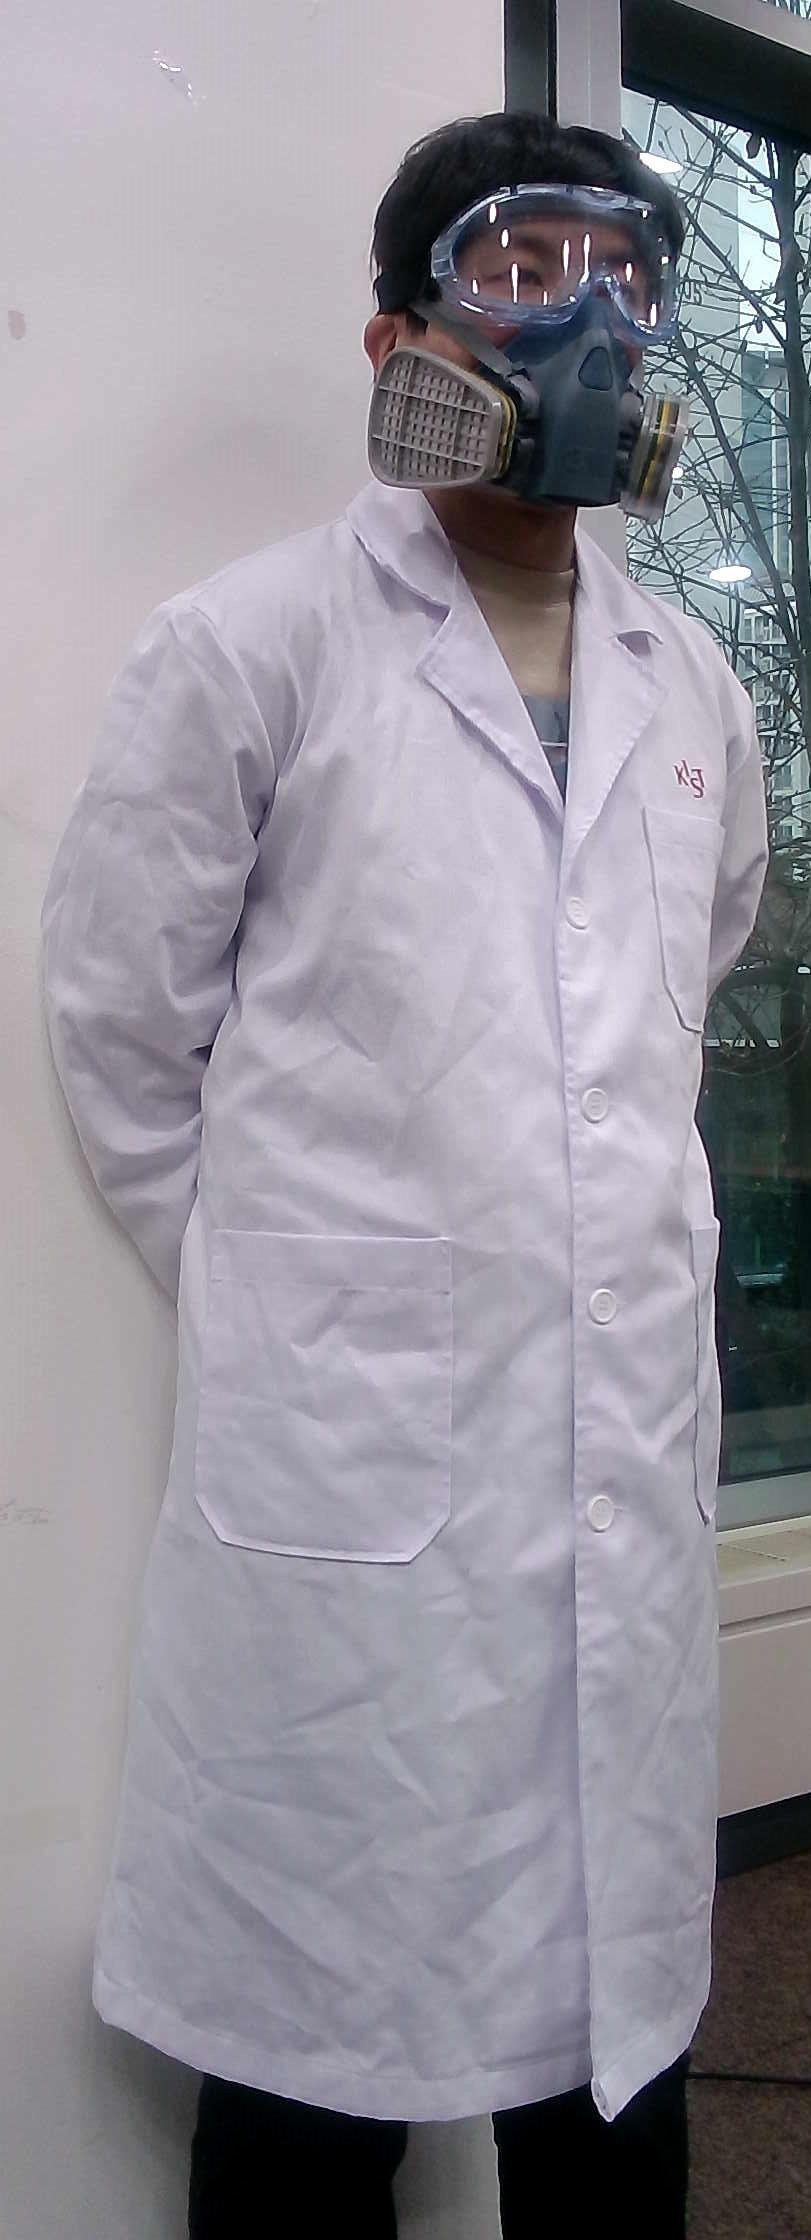lab_coat: (41, 616, 780, 2041)
